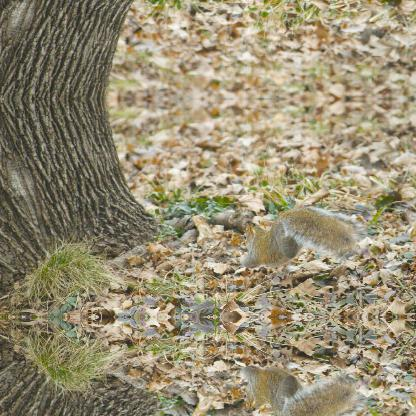Squirrel: (238, 202, 371, 274), (238, 358, 372, 415)
